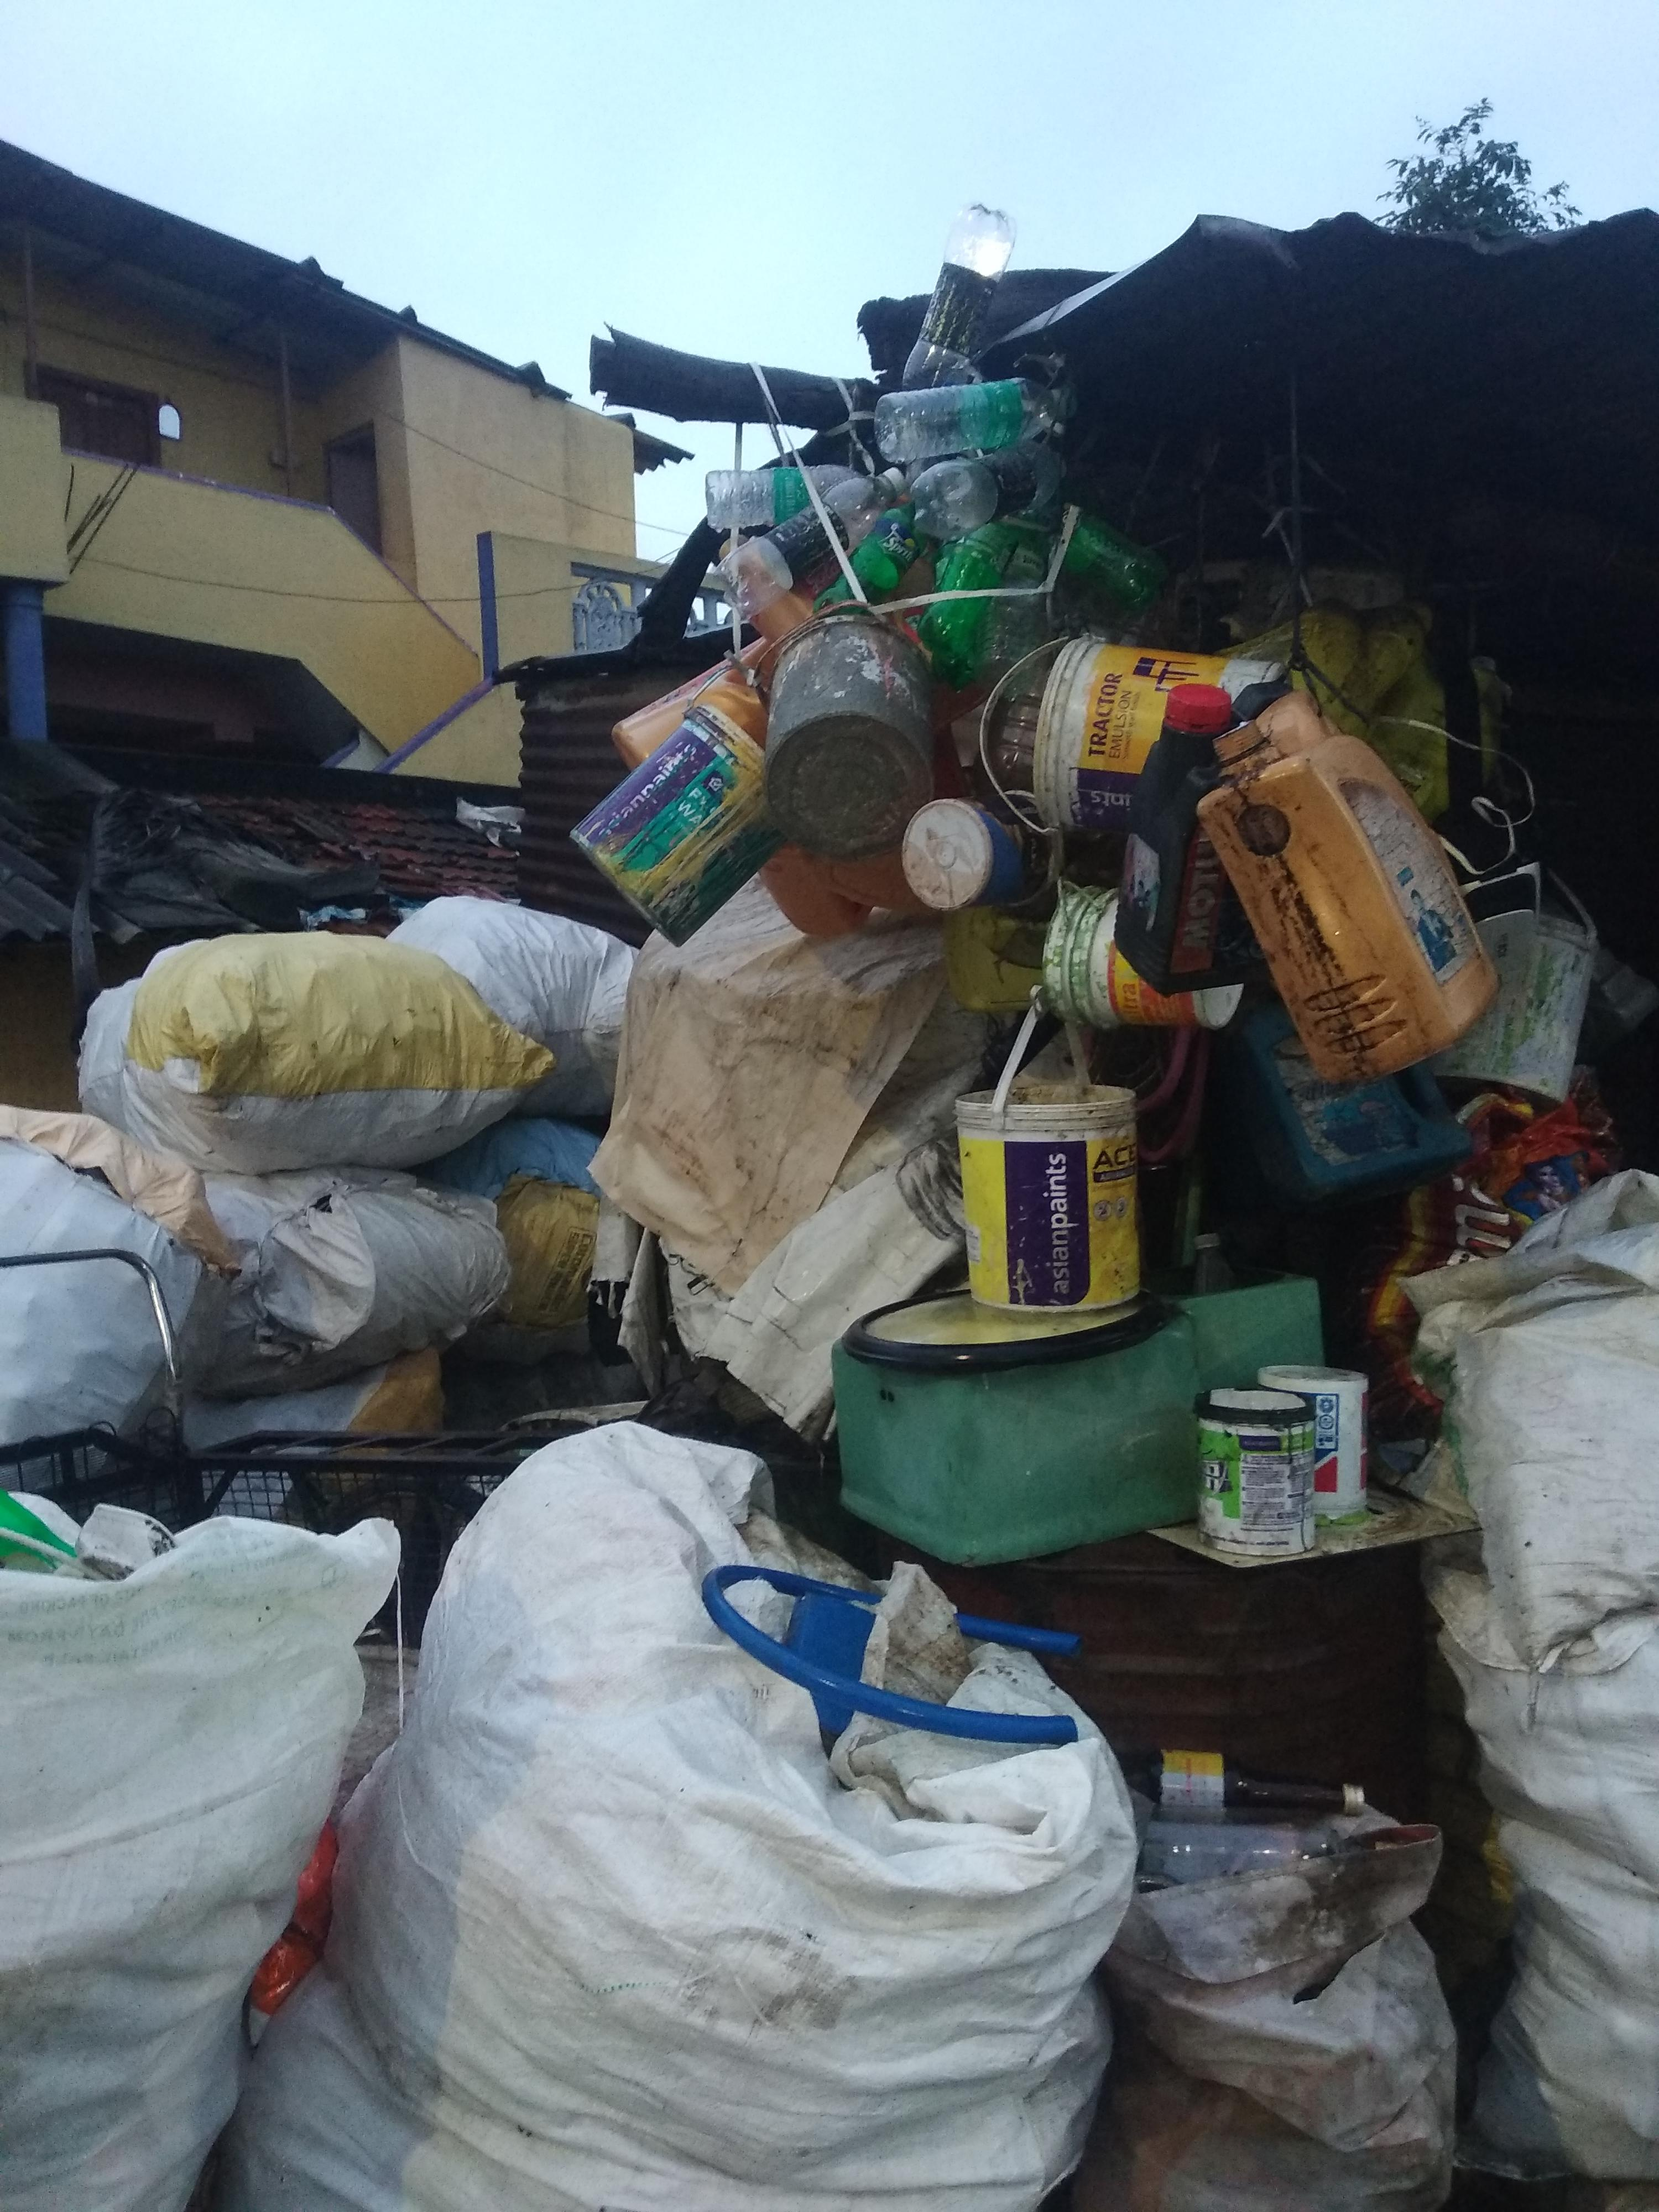trash: (0, 378, 1605, 2212)
